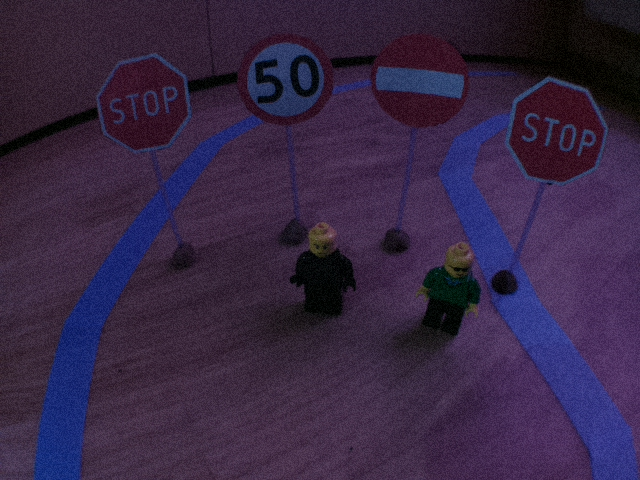LEGO_person: (413, 238, 483, 343), (288, 219, 359, 318)
ogr_50: (236, 32, 336, 129)
stop: (505, 72, 610, 188), (94, 49, 194, 157)
zakaz: (368, 28, 472, 134)
